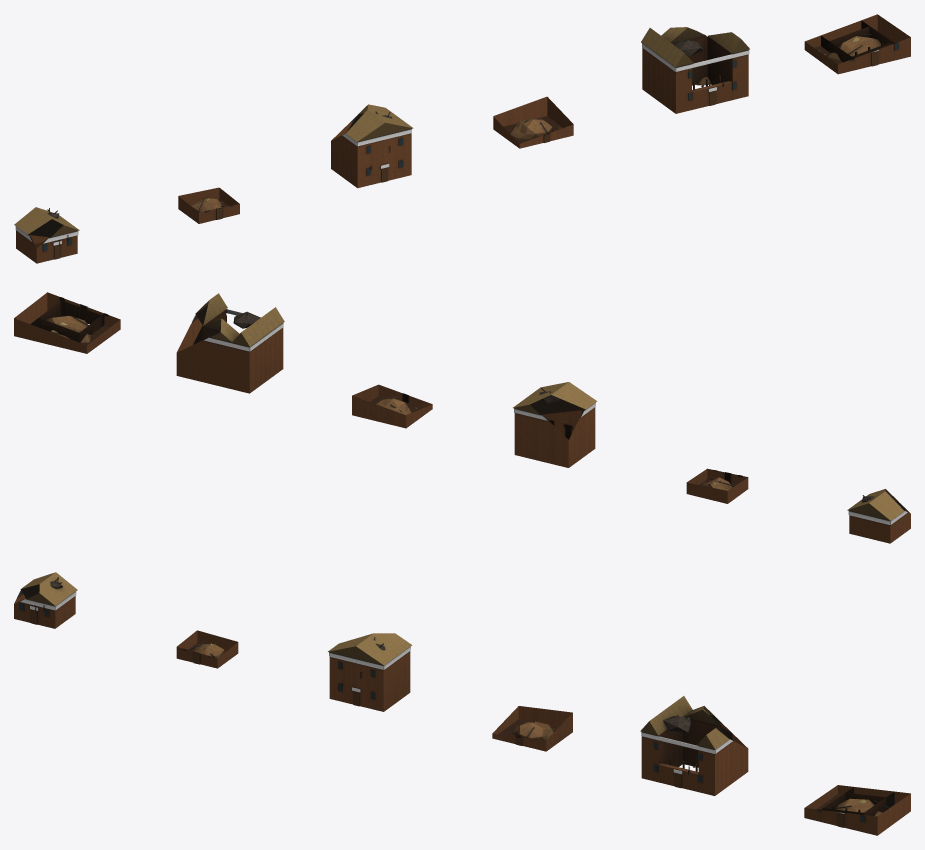
Rendered from classical-westafrica-houses-damage.glb.
3 views of the same model, one above another, from view 1: azimuth 30°, elevation 25°; view 2: azimuth 150°, elevation 25°; view 3: azimuth 330°, elevation 25° (orthographic).
Visible parts, largest first — view 1: LOD0.004, LOD0.002, LOD0.005, LOD0.003, LOD0, LOD0.001; view 2: LOD0.004, LOD0.002, LOD0.005, LOD0, LOD0.003, LOD0.001; view 3: LOD0.004, LOD0.002, LOD0.005, LOD0, LOD0.003, LOD0.001.
Boxes of the visible parts, x1,y1,x2,y2 form: LOD0.004: (641, 27, 749, 113); LOD0.002: (331, 104, 413, 188); LOD0.005: (804, 14, 910, 74); LOD0.003: (493, 96, 573, 148); LOD0: (14, 207, 79, 263); LOD0.001: (178, 187, 239, 223); LOD0.004: (176, 293, 284, 393); LOD0.002: (513, 382, 597, 467); LOD0.005: (14, 292, 120, 353); LOD0: (847, 489, 910, 543); LOD0.003: (352, 384, 432, 428); LOD0.001: (686, 468, 748, 503); LOD0.004: (640, 696, 748, 795); LOD0.002: (328, 633, 412, 711); LOD0.005: (804, 785, 910, 835); LOD0: (14, 572, 77, 628); LOD0.003: (492, 706, 572, 751); LOD0.001: (176, 630, 238, 668).
Size of what is drawn, in the model's own units: 16.08 by 1.06 by 1.11.
Materials: 2 (2 with a texture image).
